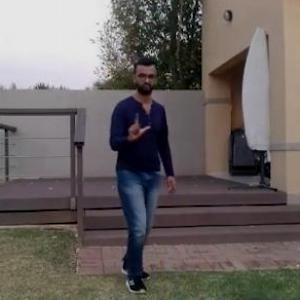land_hand: (123, 107, 157, 147)
